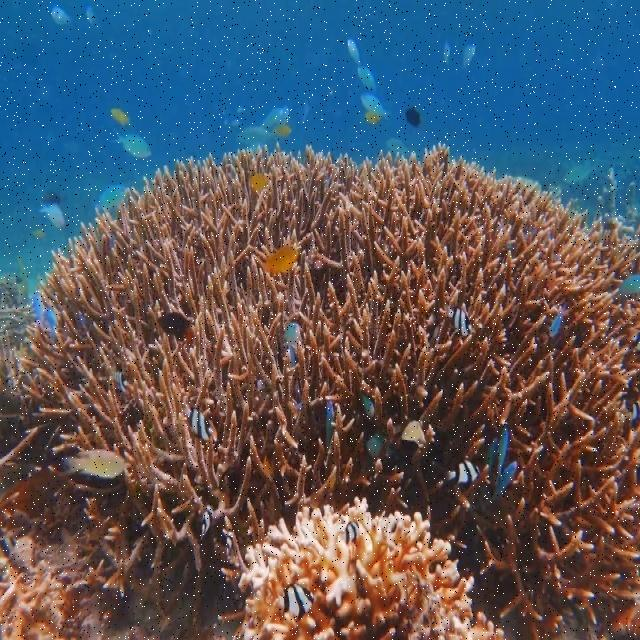reefs: (0, 141, 639, 639)
